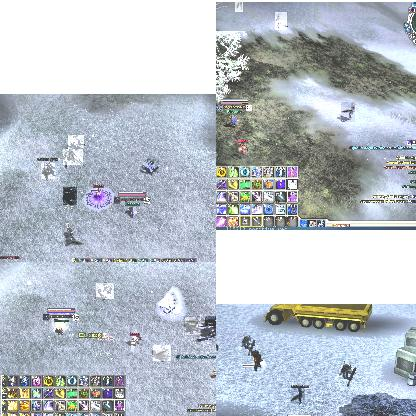caliana: (64, 228, 82, 246), (63, 149, 83, 165), (96, 283, 114, 299), (153, 345, 171, 361), (185, 317, 201, 335), (198, 326, 216, 342), (341, 102, 355, 122), (63, 187, 77, 205), (291, 386, 305, 404), (68, 135, 84, 149), (41, 163, 55, 179), (275, 12, 287, 30), (145, 159, 159, 173), (205, 316, 216, 326), (235, 2, 243, 12)
